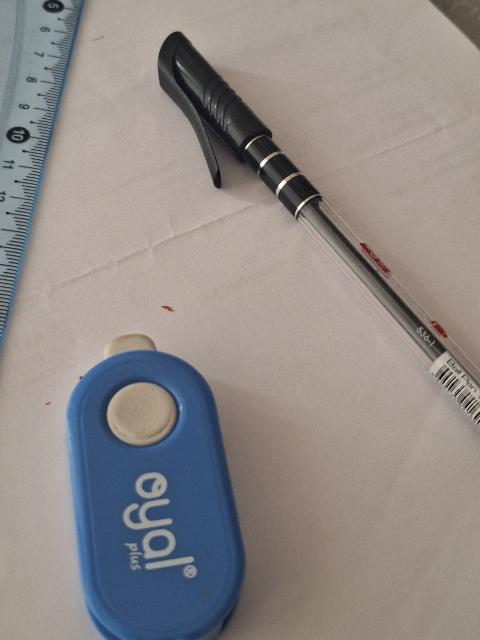writing_tool: (155, 33, 480, 426)
